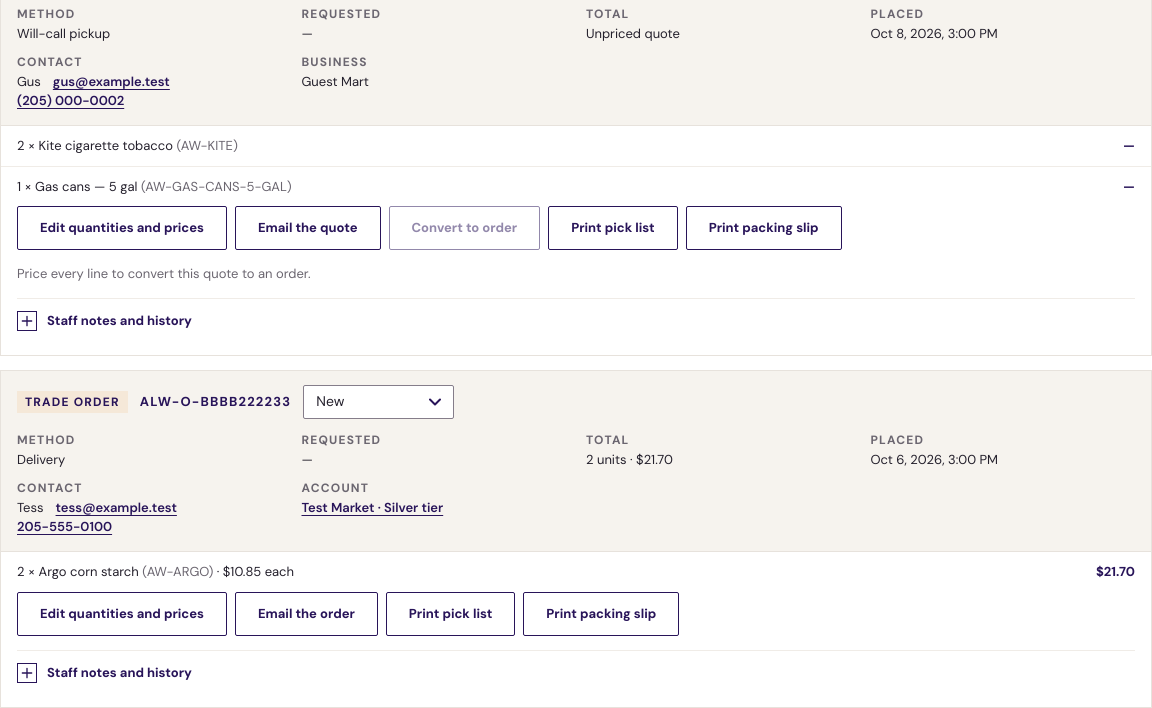
Test: the quote editor’s focus, and cards a save or a conversion moves (NEW-016) › says a save of an order without naming a status, and keeps its status
(page scrolled)
Click the button "Edit quantities and prices" next to "Email the order". click: (122, 614)
box: [17,592,227,636]
(page scrolled)
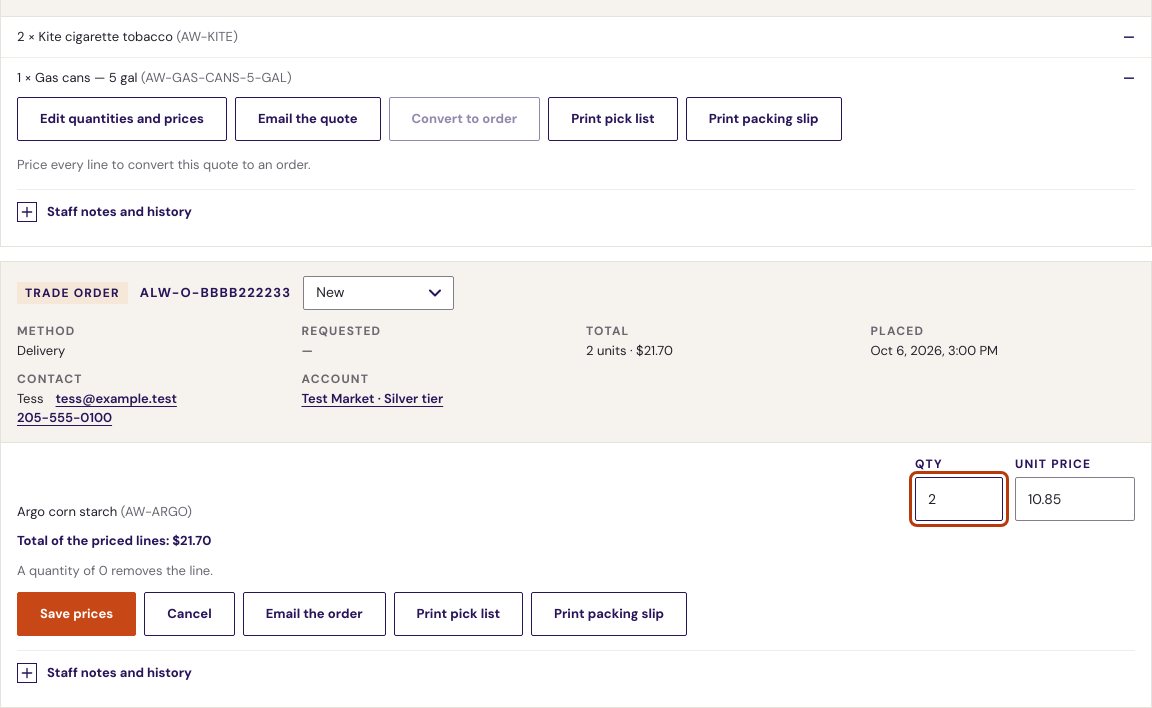
Click the button "Save prices". click: (77, 614)
box: [17,592,136,636]
(page scrolled)
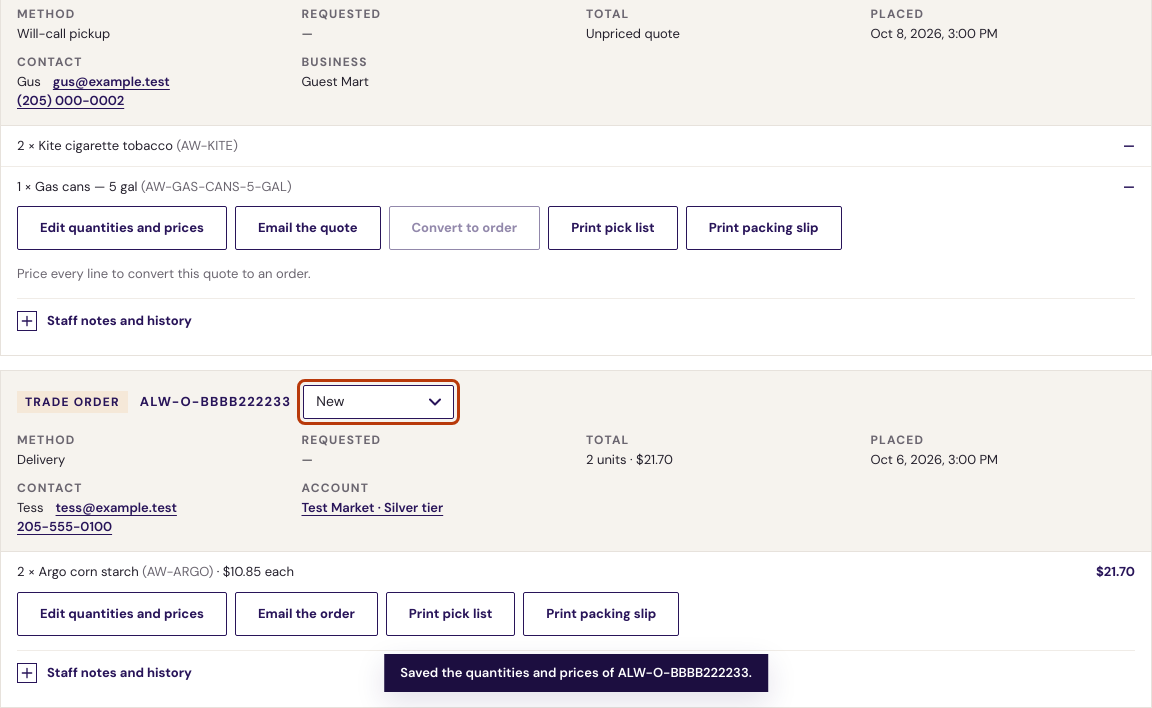
Expected: the message with class "admin-status-text" reads "Saved the quantities and prices of ALW-O-BBBB222233.", [400,664,752,681]
